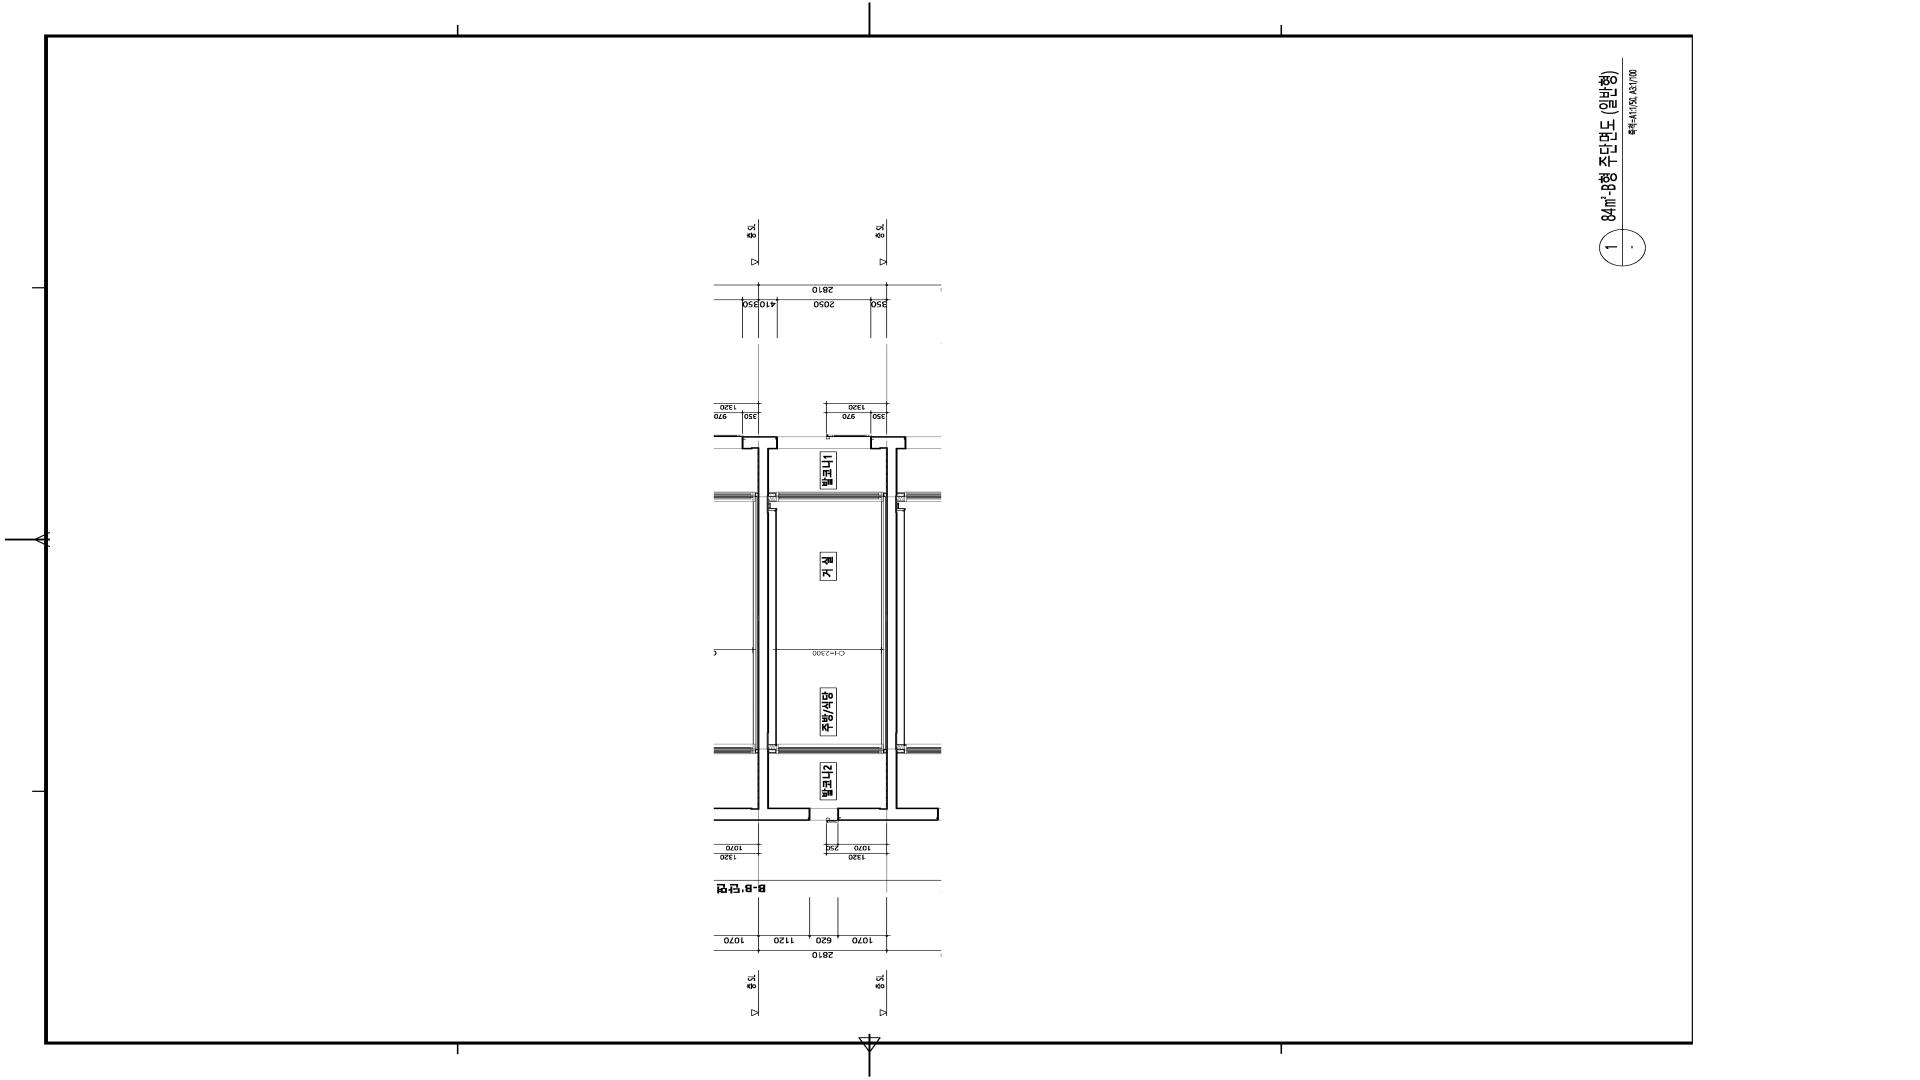wall: (837, 436, 898, 821), (757, 436, 810, 821), (769, 749, 776, 754), (769, 492, 776, 497), (883, 749, 886, 754), (883, 493, 886, 497)
window: (778, 435, 870, 449), (776, 744, 883, 754), (776, 492, 883, 502), (810, 808, 837, 822)
